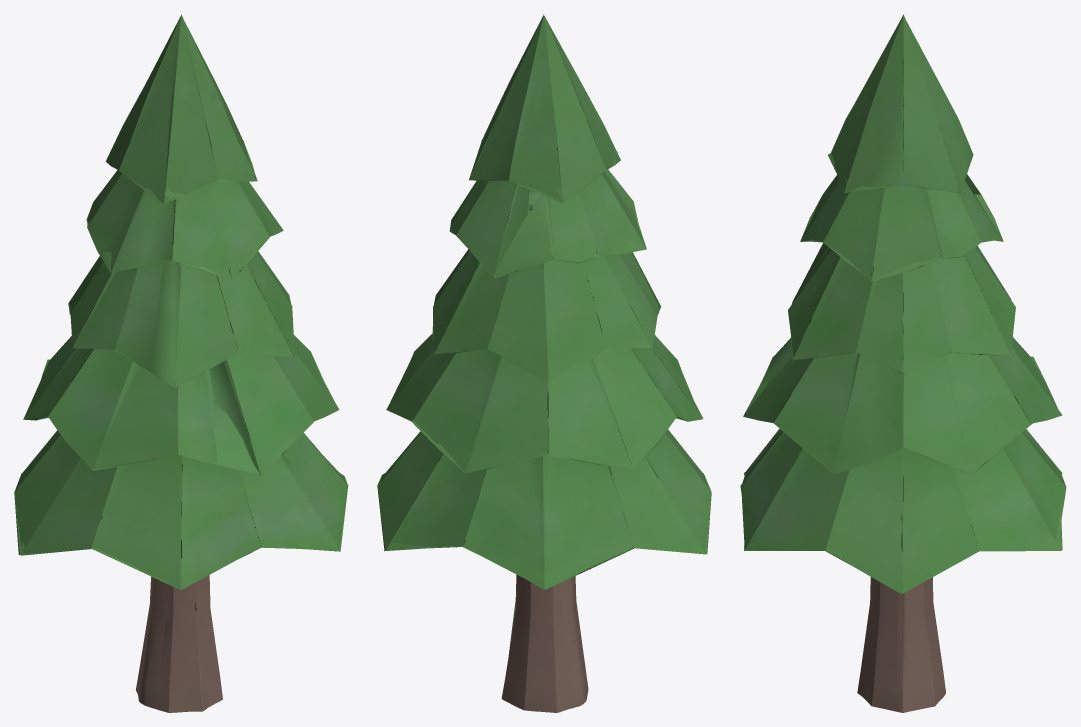
File: 41-pine-tree.glb
The picture shows the model from 3 angles, left to right: view 1: azimuth 30°, elevation 25°; view 2: azimuth 150°, elevation 25°; view 3: azimuth 270°, elevation 25°; orthographic projection.
Visible parts, largest first — view 1: geometry_0; view 2: geometry_0; view 3: geometry_0.
Boxes of the visible parts, left/top/right/bottom form: geometry_0: left=14, top=14, right=348, bottom=712; geometry_0: left=377, top=14, right=711, bottom=712; geometry_0: left=740, top=14, right=1066, bottom=712.
Size of the model in its own units: 0.4756 by 0.9502 by 0.4126.
1 material, 1 textured.
